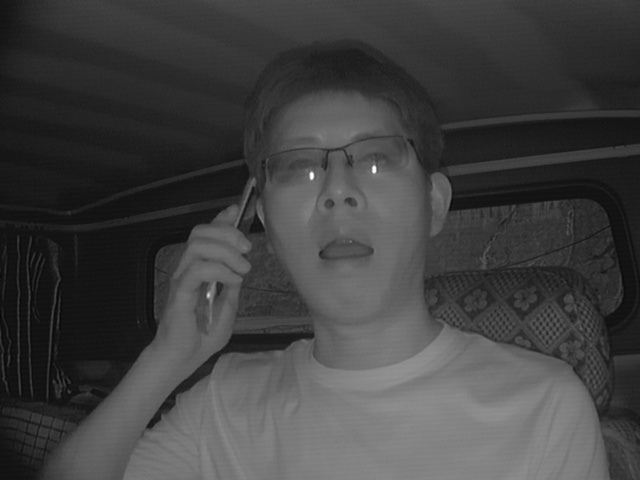hand: (163, 207, 249, 352)
